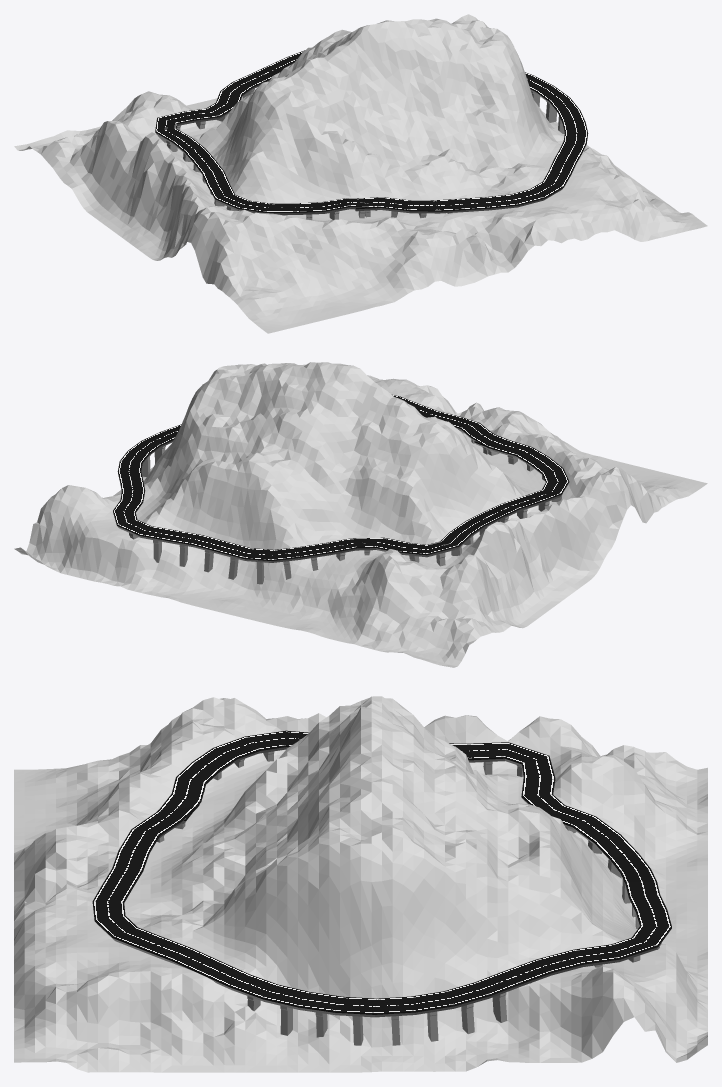
File: cartmap.fbx
The picture shows the model from 3 angles, top to bottom: view 1: azimuth 30°, elevation 25°; view 2: azimuth 150°, elevation 25°; view 3: azimuth 270°, elevation 25°; orthographic projection. The views are drawn at different scales.
Parts seen in each view (by area): view 1: map3dmesh, mesh; view 2: map3dmesh, mesh; view 3: map3dmesh, mesh.
Part boxes in pixels (<box>): map3dmesh: <box>14,14,707,333</box>; mesh: <box>155,50,588,219</box>; map3dmesh: <box>14,362,707,667</box>; mesh: <box>113,394,569,584</box>; map3dmesh: <box>14,696,707,1072</box>; mesh: <box>92,730,671,1045</box>.
Bounding box in the file's own units: 3000 × 1089 × 3000.
Materials: 1 (1 with a texture image).
